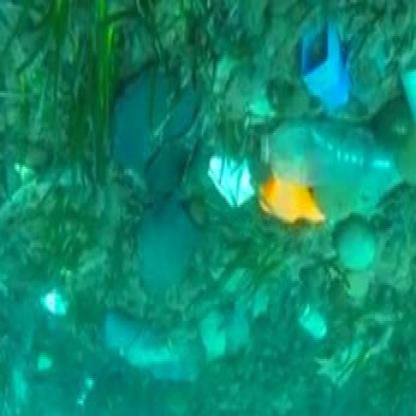misc: (115, 59, 219, 194)
pbottle: (247, 106, 411, 204)
